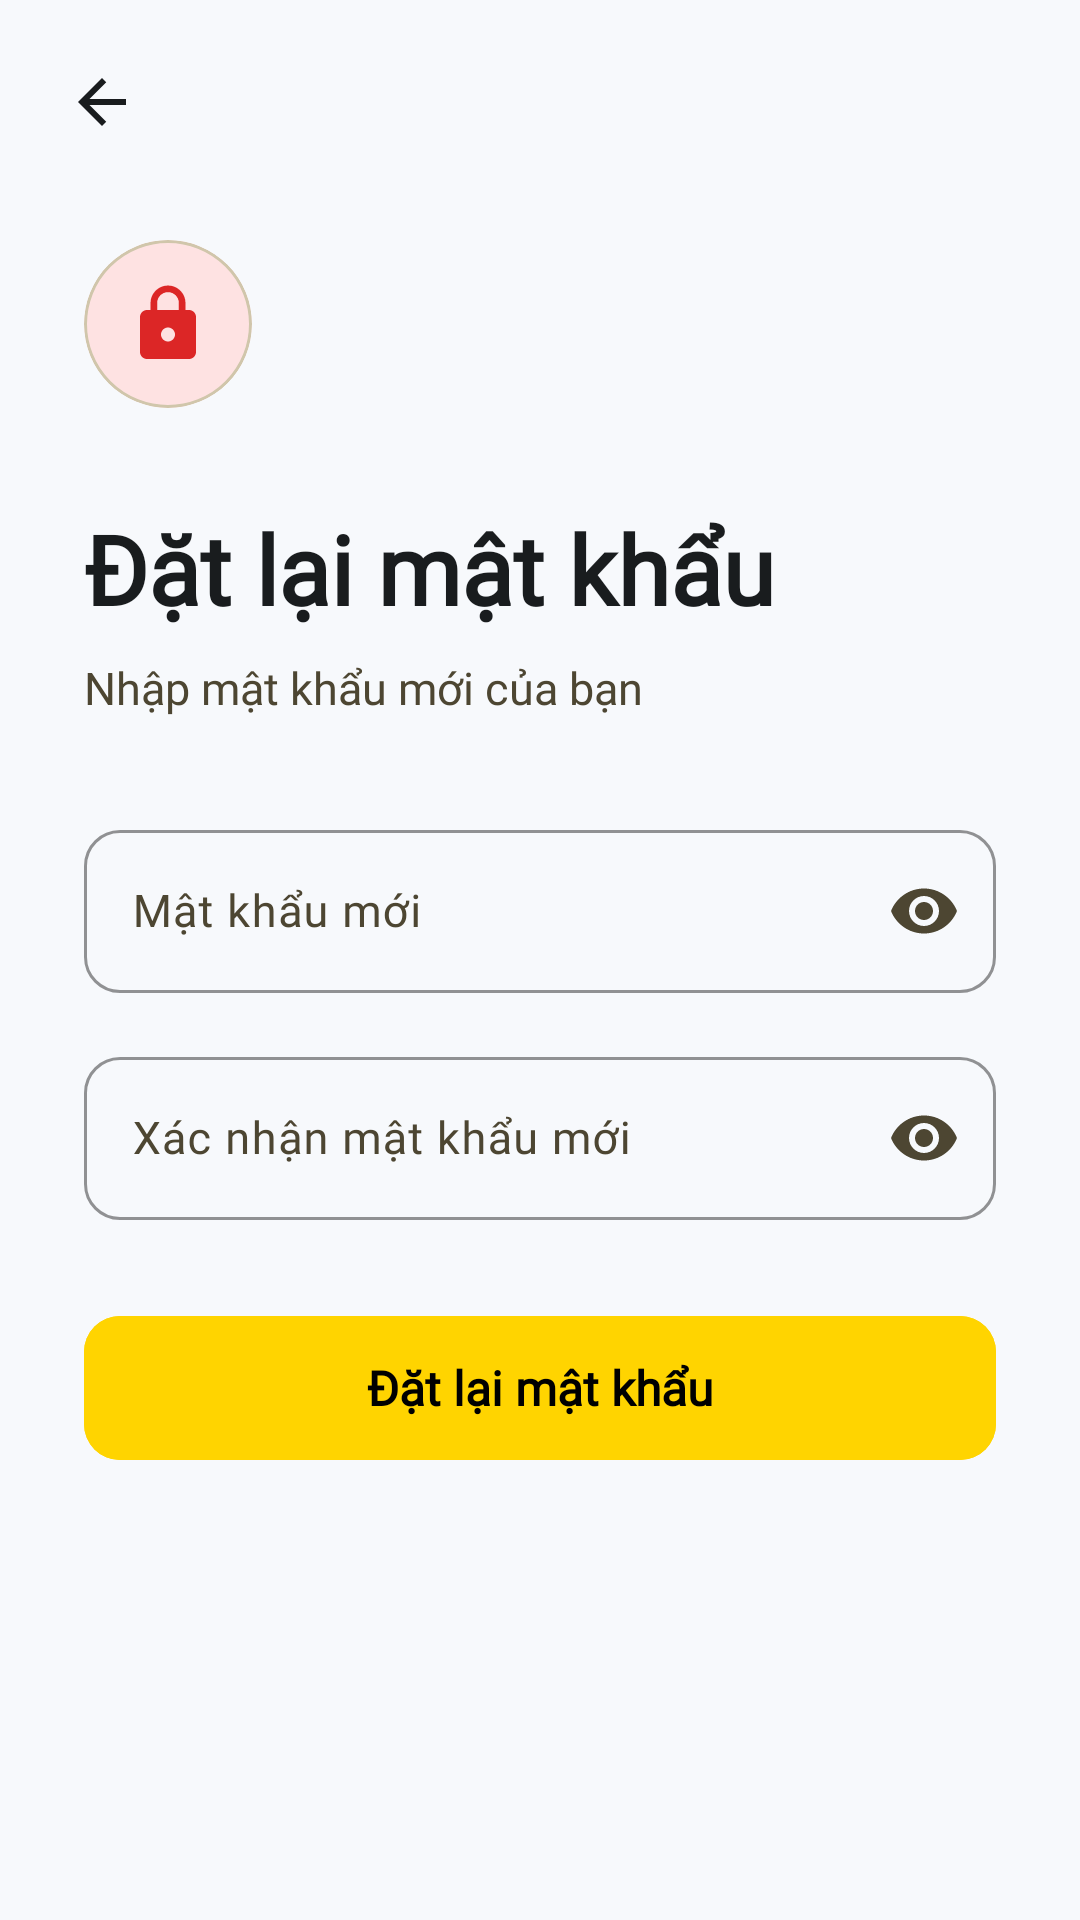

Where icons sit on this 1080 × 1920 app screen, as (x1, y1, x2, y2):
Quay lại: (78, 78, 126, 126)
